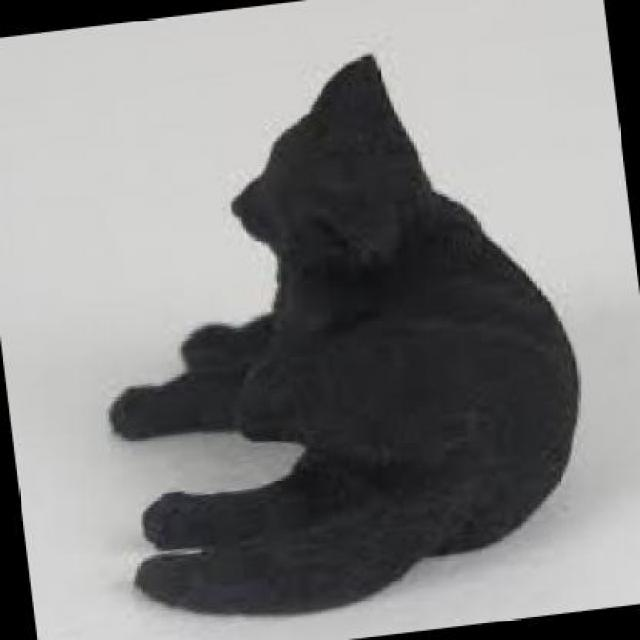animals: (42, 9, 636, 638)
